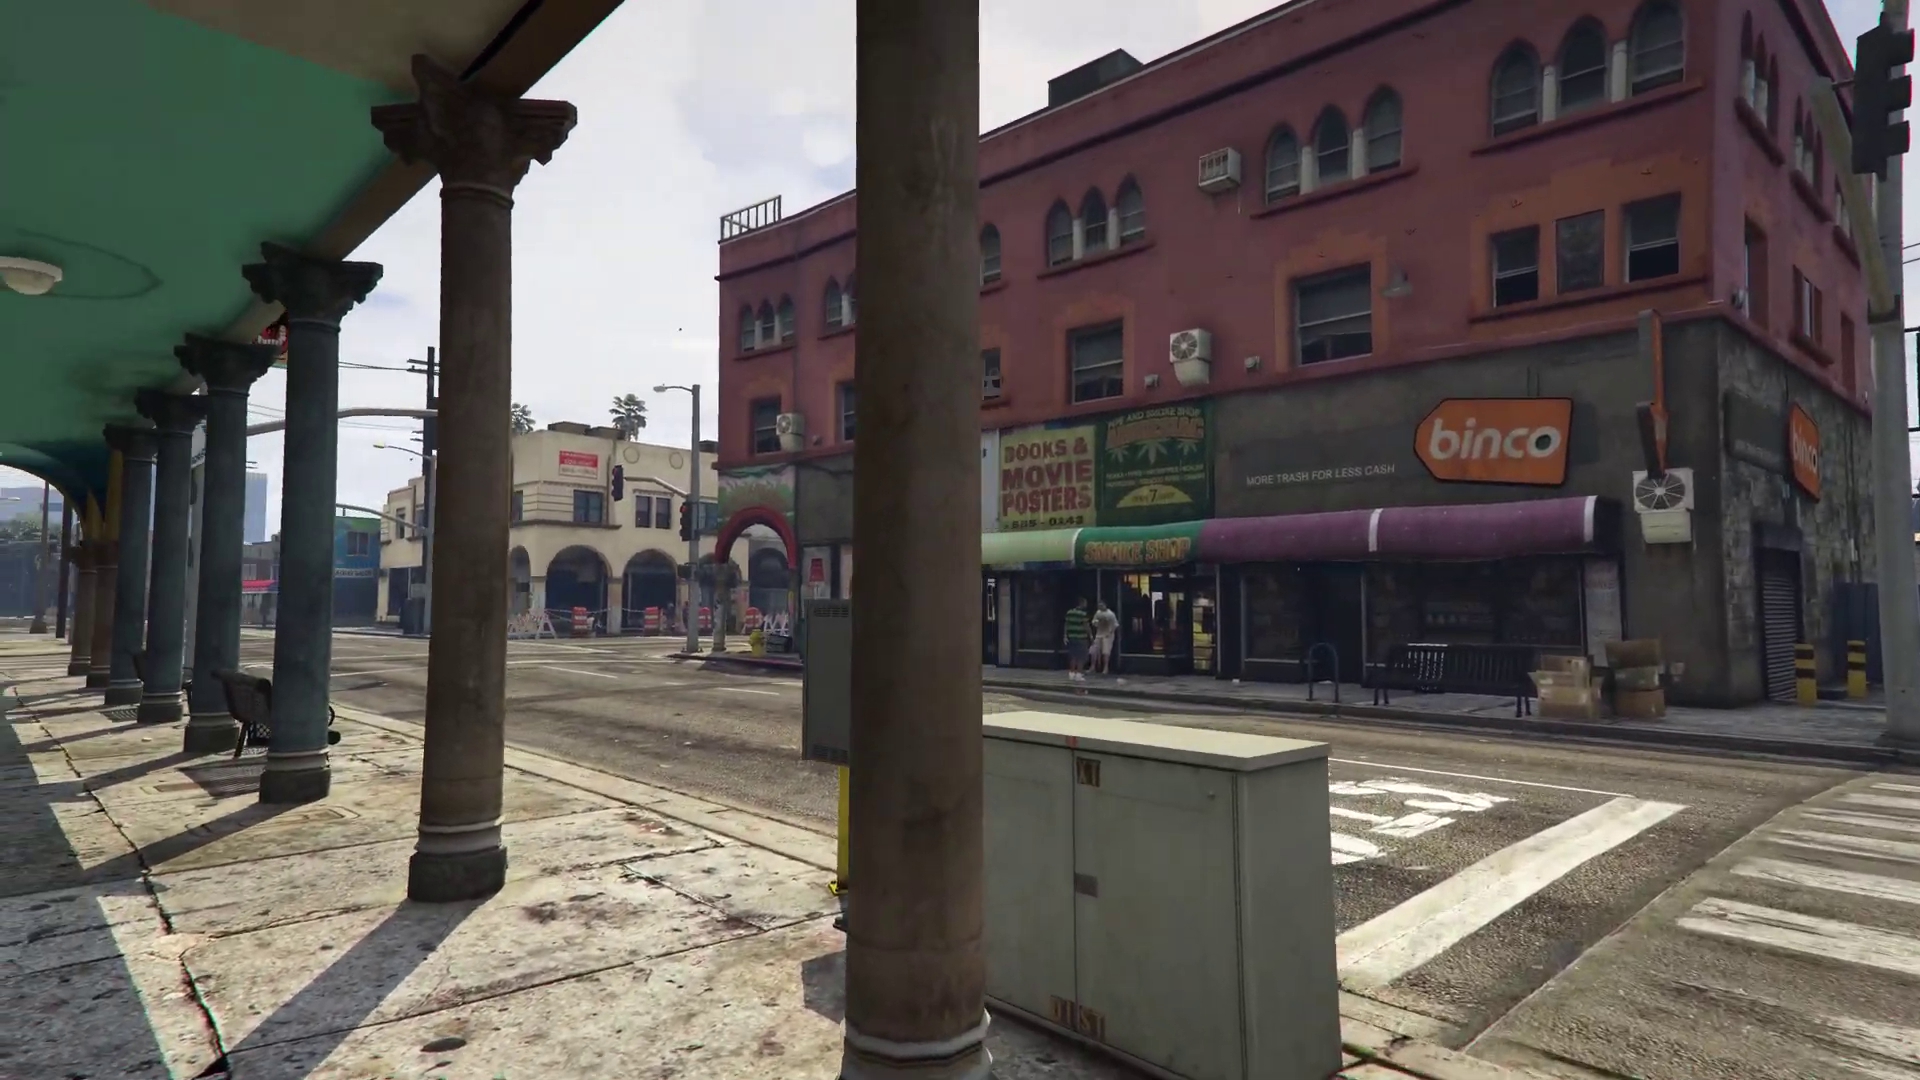person: (1065, 597, 1091, 681), (1091, 600, 1117, 675)
traffic light: (1851, 21, 1915, 176), (679, 502, 695, 540), (609, 463, 624, 501)
